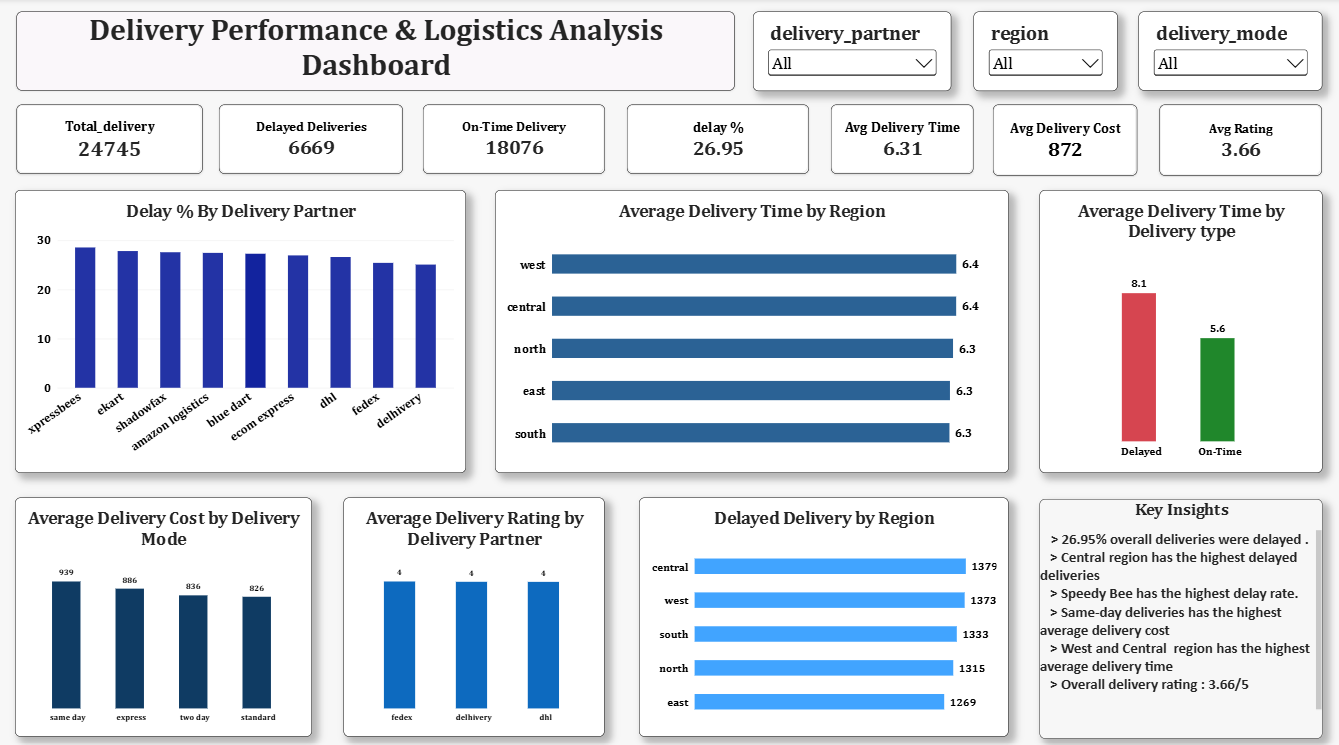

This screenshot's page, from the dashboard's own definition file:
{"tool":"powerbi","page":{"name":"Page 1","canvas":[1920,1080],"ordinal":0},"visuals":[{"type":"cardVisual","fields":{"Data":["delivery_analytics delivery_data.Total_delivery"]},"box":[22.7,153.1,266.5,99.2],"z":0},{"type":"cardVisual","fields":{"Data":["delivery_analytics delivery_data.total_on_time_delivery"]},"box":[606.6,153.1,260.8,99.2],"z":1000},{"type":"cardVisual","fields":{"Data":["delivery_analytics delivery_data.delay %"]},"box":[898.6,153.1,260.8,99.2],"z":2000},{"type":"cardVisual","fields":{"Data":["delivery_analytics delivery_data.avg_delivery_time"]},"box":[1190.6,153.1,204.1,99.2],"z":3000},{"type":"cardVisual","fields":{"Data":["delivery_analytics delivery_data.avg_delivery_cost"]},"box":[1423,153.1,206.9,102],"z":4000},{"type":"cardVisual","fields":{"Data":["delivery_analytics delivery_data.avg_delivery_rating"]},"box":[1661.1,153.1,232.4,102],"z":5000},{"type":"columnChart","title":"Delay % By Delivery Partner","fields":{"Y":["delivery_analytics delivery_data.delay %"],"Category":["delivery_analytics delivery_data.delivery_partner"]},"box":[21.9,274.5,646.1,405.6],"z":6000},{"type":"barChart","title":"Delayed Delivery by Region","fields":{"Y":["delivery_analytics delivery_data.total_delyaed_delivery"],"Category":["delivery_analytics delivery_data.region"]},"box":[915.7,716.5,529.5,342.5],"z":7000},{"type":"clusteredColumnChart","title":"Average Delivery Time by Delivery type","fields":{"Y":["delivery_analytics delivery_data.avg_delivery_time"],"Category":["delivery_analytics delivery_data.Delivery_type"]},"box":[1488.2,275,405.4,405.4],"z":8000},{"type":"clusteredColumnChart","title":"Average Delivery Cost by Delivery Mode","fields":{"Category":["delivery_analytics delivery_data.delivery_mode"],"Y":["delivery_analytics delivery_data.avg_delivery_cost"]},"box":[21.9,716.5,425,342.5],"z":9000},{"type":"columnChart","title":"Average Delivery Rating by Delivery Partner","fields":{"Category":["delivery_analytics delivery_data.delivery_partner"],"Y":["delivery_analytics delivery_data.avg_delivery_rating"]},"box":[493.1,716.5,374,342.5],"z":10000},{"type":"barChart","title":"Average Delivery Time by Region","fields":{"Y":["delivery_analytics delivery_data.avg_delivery_time"],"Category":["delivery_analytics delivery_data.region"]},"box":[709.2,274.5,735.9,405.6],"z":11000},{"type":"slicer","fields":{"Values":["delivery_analytics delivery_data.delivery_partner"]},"box":[1078.4,19.4,284.2,114.2],"z":12000},{"type":"slicer","fields":{"Values":["delivery_analytics delivery_data.region"]},"box":[1394.2,19.4,206.5,114.2],"z":13000},{"type":"slicer","fields":{"Values":["delivery_analytics delivery_data.delivery_mode"]},"box":[1629.9,19.8,263.6,113.4],"z":14000},{"type":"cardVisual","fields":{"Data":["delivery_analytics delivery_data.total_delyaed_delivery"]},"box":[314.6,153.1,263.6,99.2],"z":15000},{"type":"textbox","title":"Delivery Performance & Logistics Analysis Dashboard","box":[22.7,19.8,1029,113.4],"z":16000},{"type":"textbox","title":"Key Insights","box":[1488,717,405,343],"z":17000}]}

Visuals, with their boxes in screenshot pixels (x1, y1, x2, y2), scaled from the page's 1920x1080 canvas onto the 1339x745 screenshot:
cardVisual - delivery_analytics delivery_data.Total_delivery: box(16, 106, 202, 174)
cardVisual - delivery_analytics delivery_data.total_on_time_delivery: box(423, 106, 605, 174)
cardVisual - delivery_analytics delivery_data.delay %: box(627, 106, 809, 174)
cardVisual - delivery_analytics delivery_data.avg_delivery_time: box(830, 106, 973, 174)
cardVisual - delivery_analytics delivery_data.avg_delivery_cost: box(992, 106, 1137, 176)
cardVisual - delivery_analytics delivery_data.avg_delivery_rating: box(1158, 106, 1321, 176)
"Delay % By Delivery Partner" columnChart: box(15, 189, 466, 469)
"Delayed Delivery by Region" barChart: box(639, 494, 1008, 731)
"Average Delivery Time by Delivery type" clusteredColumnChart: box(1038, 190, 1321, 469)
"Average Delivery Cost by Delivery Mode" clusteredColumnChart: box(15, 494, 312, 731)
"Average Delivery Rating by Delivery Partner" columnChart: box(344, 494, 605, 731)
"Average Delivery Time by Region" barChart: box(495, 189, 1008, 469)
slicer - delivery_analytics delivery_data.delivery_partner: box(752, 13, 950, 92)
slicer - delivery_analytics delivery_data.region: box(972, 13, 1116, 92)
slicer - delivery_analytics delivery_data.delivery_mode: box(1137, 14, 1321, 92)
cardVisual - delivery_analytics delivery_data.total_delyaed_delivery: box(219, 106, 403, 174)
"Delivery Performance & Logistics Analysis Dashboard" textbox: box(16, 14, 733, 92)
"Key Insights" textbox: box(1038, 495, 1320, 731)
